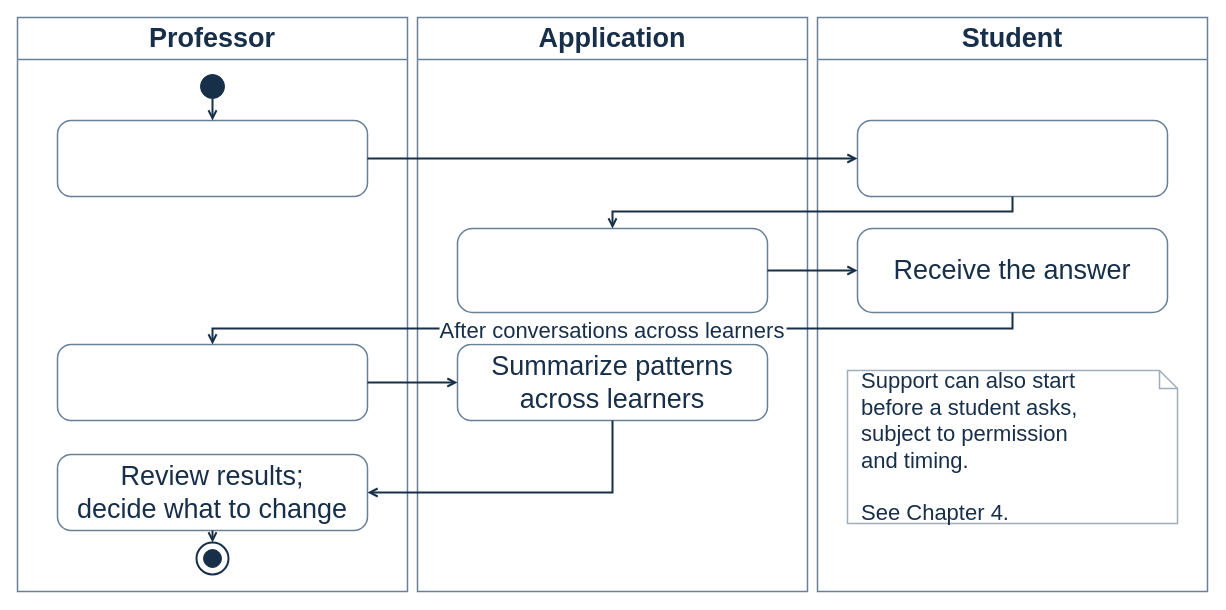
The diagram is 1226 pixels wide and 610 high, and some of its shapes have lost their labels. The centre of each missing label's shape, as x and y in pixels:
"Answer using course materials; save dialogue" belongs at (612,270).
"Ask a course question" belongs at (1012,158).
"Later: request a course summary" belongs at (212,382).
"Publish materials and teaching settings" belongs at (212,158).
